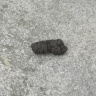Dog: (32, 39, 67, 55)
